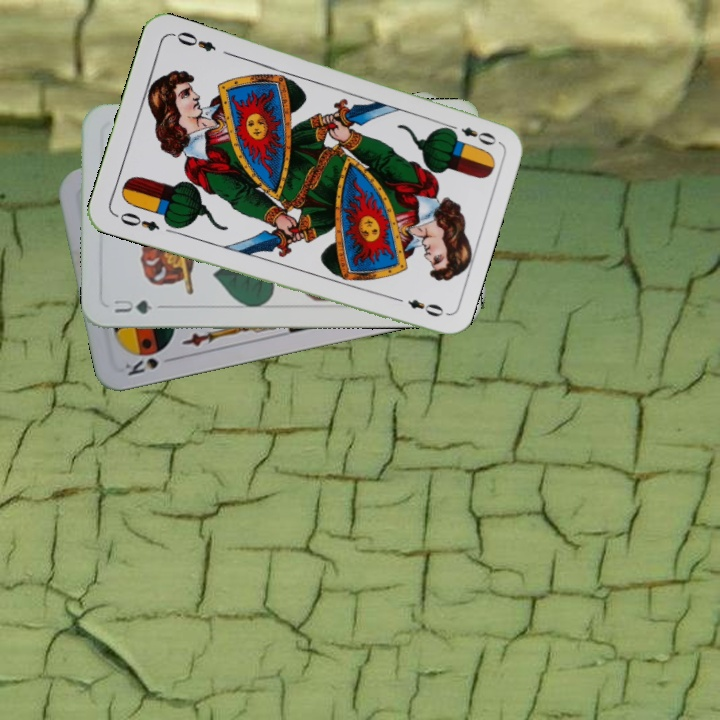EO: (442, 120, 500, 148), (111, 208, 162, 234)
GU: (110, 295, 165, 316)
SK: (121, 346, 167, 379)
